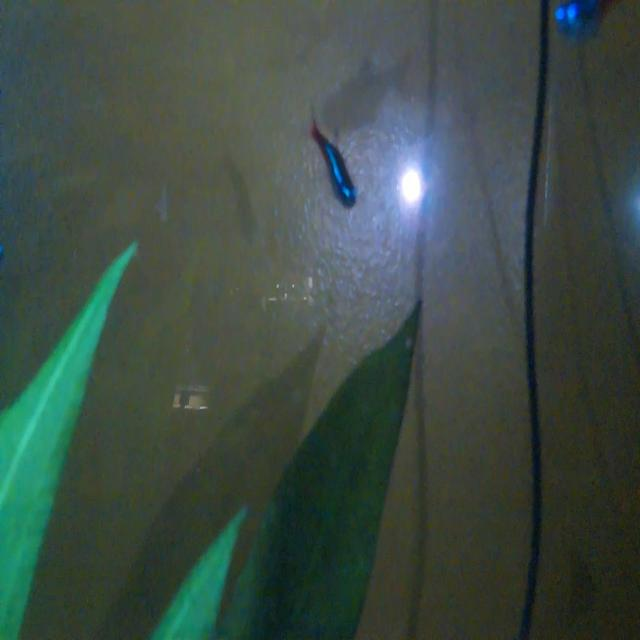fish: (296, 103, 366, 217)
